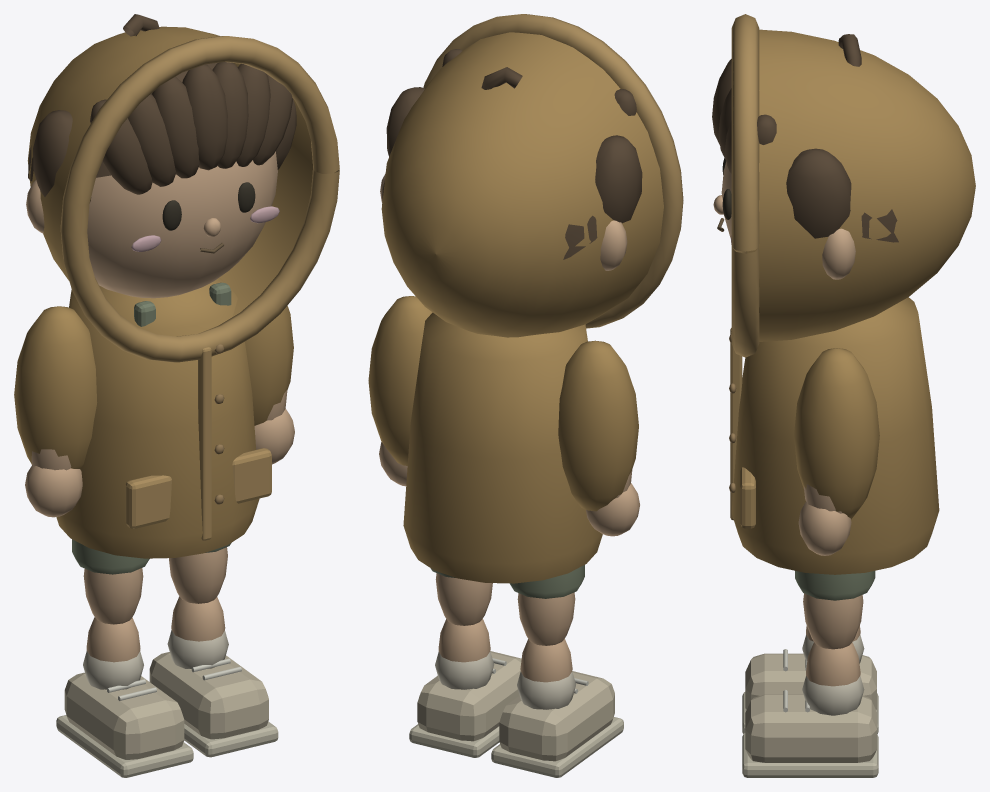
File: visitor-raincoat.glb
3 renders of one model, left to right at view 1: azimuth 30°, elevation 25°; view 2: azimuth 150°, elevation 25°; view 3: azimuth 270°, elevation 25°, orthographic. The views are drawn at different scales.
Visible parts, largest first — view 1: HeadPivot__RT_ExportPalette_0.720_0.000, Outfit_Raincoat__RT_ExportPalette_0.720_0.000_raincoat, HeadPivot__RT_ExportPalette_0.720_0.000_raincoat, Knee_L__RT_ExportPalette_0.720_0.000, Knee_R__RT_ExportPalette_0.720_0.000, RainSleeve_L, Leg_L__RT_ExportPalette_0.720_0.000, RainSleeve_R, Arm_L__RT_ExportPalette_0.720_0.000, Leg_R__RT_ExportPalette_0.720_0.000, Arm_R__RT_ExportPalette_0.720_0.000, BodyPivot__RT_ExportPalette_0.720_0.000 (+1 smaller); view 2: HeadPivot__RT_ExportPalette_0.720_0.000_raincoat, Outfit_Raincoat__RT_ExportPalette_0.720_0.000_raincoat, Knee_L__RT_ExportPalette_0.720_0.000, RainSleeve_L, Knee_R__RT_ExportPalette_0.720_0.000, HeadPivot__RT_ExportPalette_0.720_0.000, RainSleeve_R, Leg_L__RT_ExportPalette_0.720_0.000, Leg_R__RT_ExportPalette_0.720_0.000, Arm_L__RT_ExportPalette_0.720_0.000, Arm_R__RT_ExportPalette_0.720_0.000; view 3: HeadPivot__RT_ExportPalette_0.720_0.000_raincoat, Outfit_Raincoat__RT_ExportPalette_0.720_0.000_raincoat, Knee_R__RT_ExportPalette_0.720_0.000, RainSleeve_R, HeadPivot__RT_ExportPalette_0.720_0.000, Leg_R__RT_ExportPalette_0.720_0.000, Knee_L__RT_ExportPalette_0.720_0.000, Arm_R__RT_ExportPalette_0.720_0.000.
Boxes of the visible parts, x1,y1,x2,y2 form: HeadPivot__RT_ExportPalette_0.720_0.000: (26,14,296,298); Outfit_Raincoat__RT_ExportPalette_0.720_0.000_raincoat: (56,277,271,558); HeadPivot__RT_ExportPalette_0.720_0.000_raincoat: (27,26,339,362); Knee_L__RT_ExportPalette_0.720_0.000: (56,617,193,777); Knee_R__RT_ExportPalette_0.720_0.000: (149,596,278,757); RainSleeve_L: (14,306,97,468); Leg_L__RT_ExportPalette_0.720_0.000: (72,539,149,624); RainSleeve_R: (245,305,293,425); Arm_L__RT_ExportPalette_0.720_0.000: (25,449,82,517); Leg_R__RT_ExportPalette_0.720_0.000: (169,543,231,603); Arm_R__RT_ExportPalette_0.720_0.000: (254,389,294,464); BodyPivot__RT_ExportPalette_0.720_0.000: (134,282,231,326); HeadPivot__RT_ExportPalette_0.720_0.000_raincoat: (381,14,683,337); Outfit_Raincoat__RT_ExportPalette_0.720_0.000_raincoat: (403,312,602,583); Knee_L__RT_ExportPalette_0.720_0.000: (491,639,623,777); RainSleeve_L: (558,340,638,511); Knee_R__RT_ExportPalette_0.720_0.000: (409,619,521,757); HeadPivot__RT_ExportPalette_0.720_0.000: (380,49,642,270); RainSleeve_R: (368,296,432,465); Leg_L__RT_ExportPalette_0.720_0.000: (509,565,584,645); Leg_R__RT_ExportPalette_0.720_0.000: (430,568,492,625); Arm_L__RT_ExportPalette_0.720_0.000: (586,470,639,536); Arm_R__RT_ExportPalette_0.720_0.000: (379,442,407,486); HeadPivot__RT_ExportPalette_0.720_0.000_raincoat: (731,14,975,357); Outfit_Raincoat__RT_ExportPalette_0.720_0.000_raincoat: (729,297,939,574); Knee_R__RT_ExportPalette_0.720_0.000: (742,642,878,777); RainSleeve_R: (794,348,879,519); HeadPivot__RT_ExportPalette_0.720_0.000: (712,34,898,279); Leg_R__RT_ExportPalette_0.720_0.000: (795,571,875,649); Knee_L__RT_ExportPalette_0.720_0.000: (742,625,878,733); Arm_R__RT_ExportPalette_0.720_0.000: (798,484,851,555).
Size of the model in its own units: 0.3668 by 0.914 by 0.3059.
